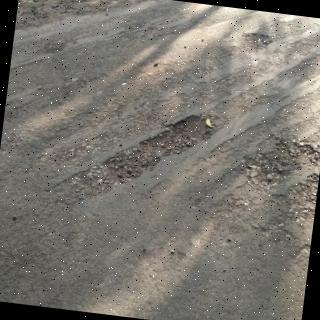pothole: (141, 115, 215, 156)
